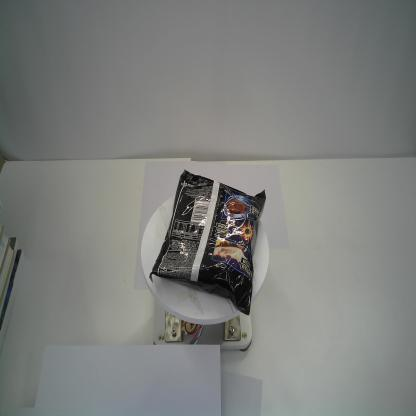Instant Noodles: (146, 168, 268, 317)
